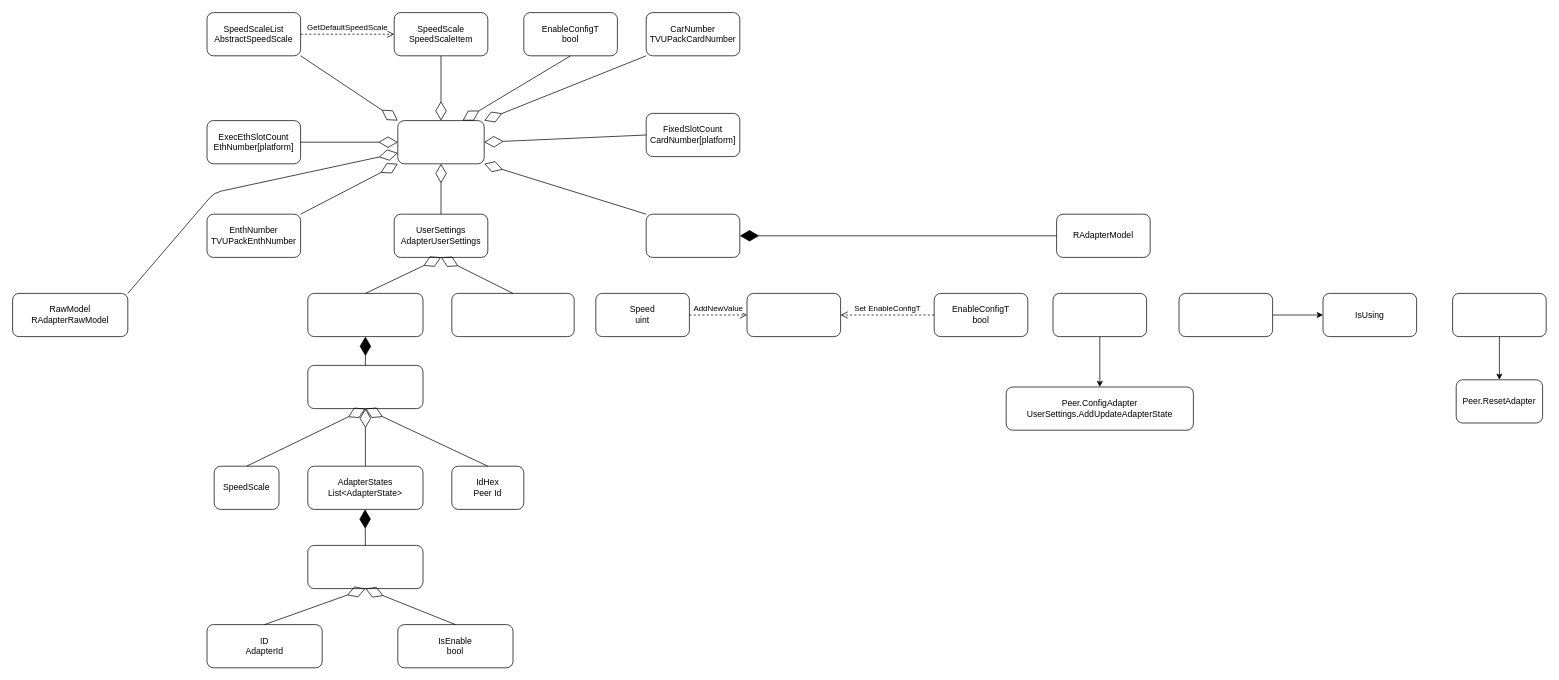
This 1559x680 diagram has some shape labels left out. Each missing label, with the box of its shape:
AdapterManager: (397, 120, 484, 164)
AdapterModels List<RAdapterModel>: (645, 213, 740, 257)
AdapterState: (307, 545, 423, 589)
AdapterStatusOfPeer: (307, 365, 423, 409)
DefaultSpeedScale SpeedScaleItem.SpeedScale: (451, 293, 574, 337)
IsEnabled bool: (1052, 293, 1147, 337)
IsRestting: (1452, 293, 1546, 337)
PeerAdapterStates List<AdapterStatusOfPeer>: (307, 293, 423, 337)
RChartModel RSlotChartModel: (746, 293, 841, 337)
Status: (1178, 293, 1273, 337)
